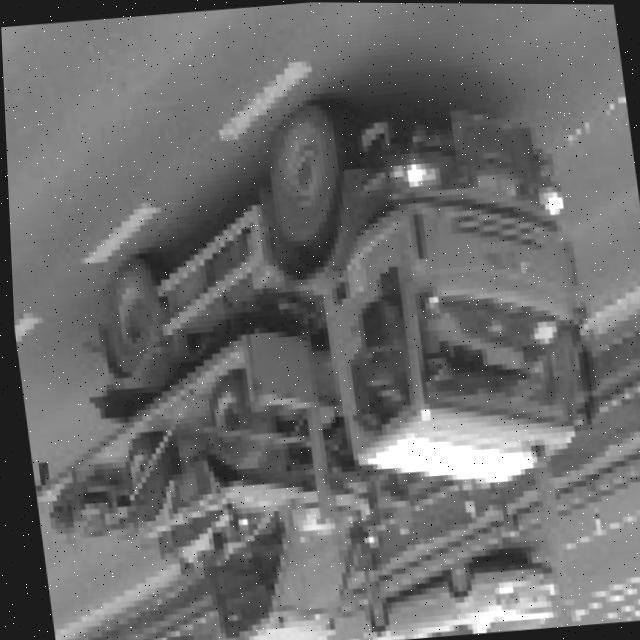truck: (2, 74, 630, 640)
